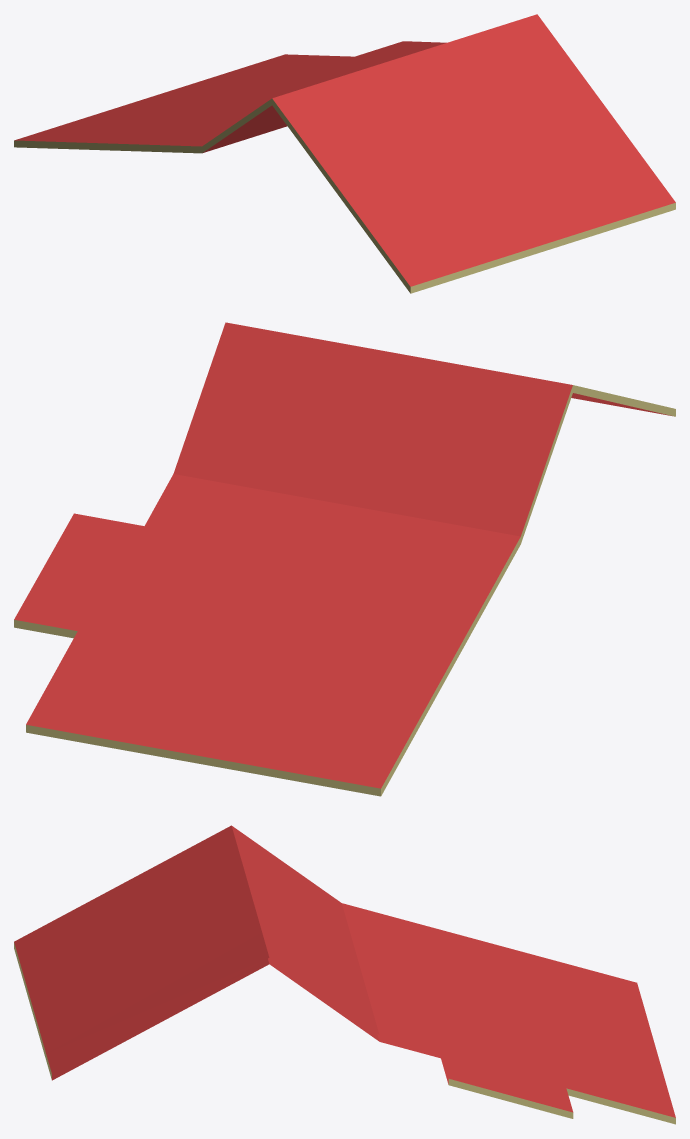
The picture shows the model from 3 angles, top to bottom: view 1: azimuth 30°, elevation 25°; view 2: azimuth 150°, elevation 25°; view 3: azimuth 270°, elevation 25°; orthographic projection. The views are drawn at different scales.
Bounding box in the file's own units: 5.57 × 9.1 × 2.8.
